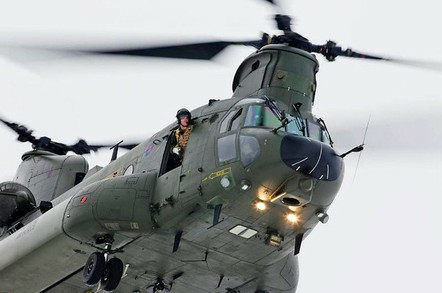chinook: (2, 18, 356, 293)
